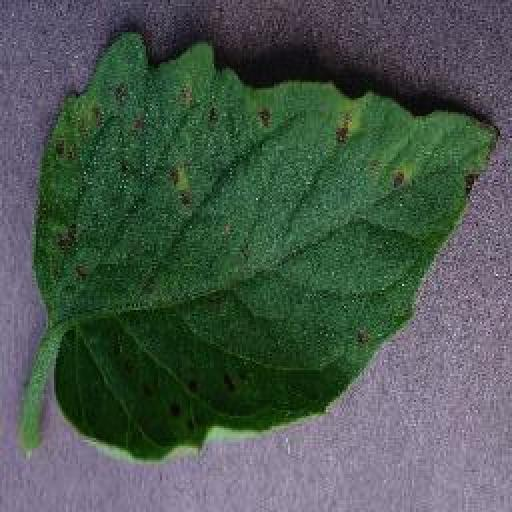disease_tomato: (40, 26, 498, 460)
